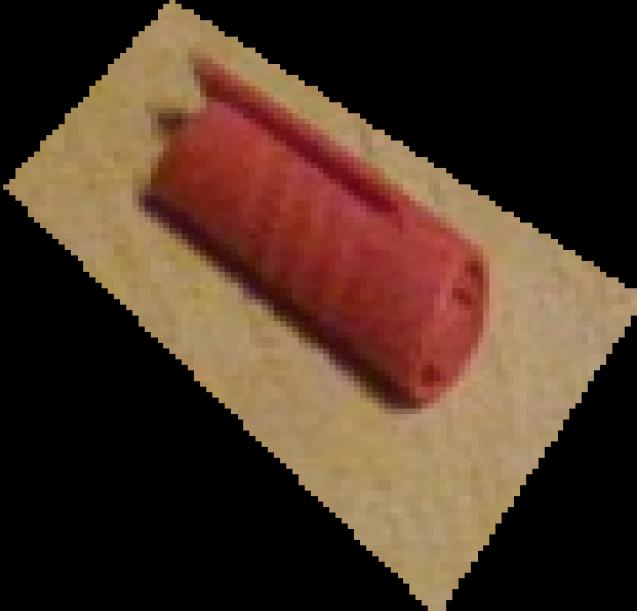red: (0, 1, 637, 611)
